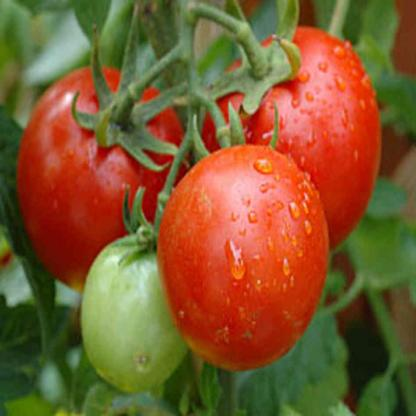---: (195, 17, 393, 261), (158, 135, 336, 381)
